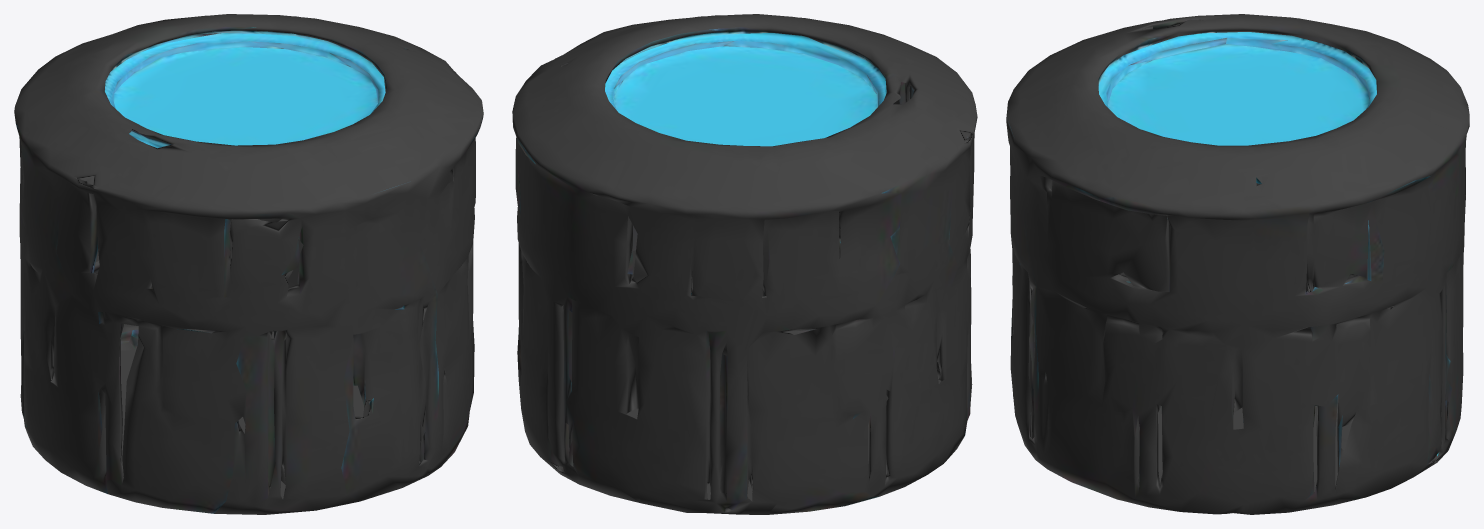
The model's file is prototype_core.glb.
3 views of the same model, side by side, from view 1: azimuth 30°, elevation 25°; view 2: azimuth 150°, elevation 25°; view 3: azimuth 270°, elevation 25° (orthographic).
Parts seen in each view (by area): view 1: geometry_0; view 2: geometry_0; view 3: geometry_0.
Boxes of the visible parts, bbox=[...] form: geometry_0: bbox=[14, 14, 483, 514]; geometry_0: bbox=[512, 14, 977, 514]; geometry_0: bbox=[1006, 14, 1469, 514].
Size of the model in its own units: 0.998 by 0.8047 by 0.9987.
1 material, 1 textured.
